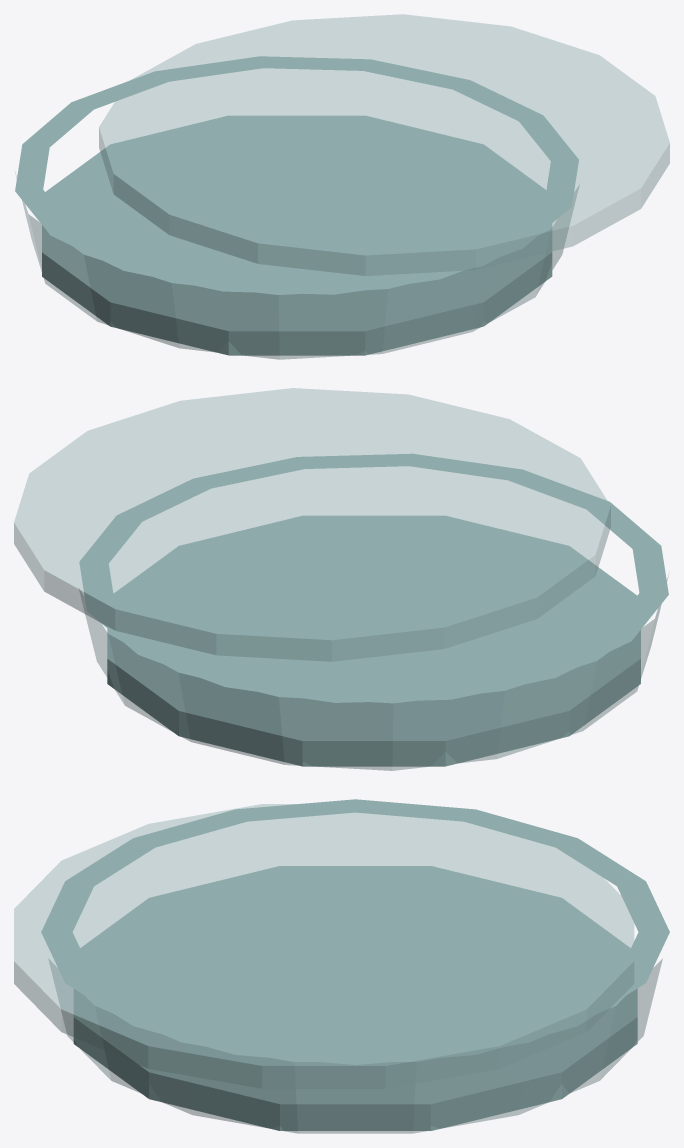
File: petri_dish.glb
3 views of the same model, one above another, from view 1: azimuth 30°, elevation 25°; view 2: azimuth 150°, elevation 25°; view 3: azimuth 270°, elevation 25° (orthographic). The views are drawn at different scales.
Parts seen in each view (by area): view 1: block_separate lid, block_glass base, block_glass side, block_glass rim 5, block_glass rim 4, block_glass rim 6, block_glass rim 13, block_glass rim 12, block_glass rim 7, block_glass rim 14, block_glass rim 11, block_glass rim 8 (+7 smaller); view 2: block_separate lid, block_glass base, block_glass side, block_glass rim 11, block_glass rim 10, block_glass rim 2, block_glass rim 9, block_glass rim 12, block_glass rim 3, block_glass rim 1, block_glass rim 8, block_glass rim 6 (+7 smaller); view 3: block_separate lid, block_glass base, block_glass side, block_glass rim 7, block_glass rim 0, block_glass rim 15, block_glass rim 8, block_glass rim 9, block_glass rim 6, block_glass rim 14, block_glass rim 1, block_glass rim 10 (+7 smaller).
Part boxes in pixels (bbox=[...]): block_separate lid: bbox=[99, 14, 669, 275]; block_glass base: bbox=[42, 115, 552, 355]; block_glass side: bbox=[15, 172, 579, 359]; block_glass rim 5: bbox=[223, 280, 333, 294]; block_glass rim 4: bbox=[330, 269, 438, 294]; block_glass rim 6: bbox=[124, 261, 230, 291]; block_glass rim 13: bbox=[260, 56, 370, 70]; block_glass rim 12: bbox=[155, 56, 263, 81]; block_glass rim 7: bbox=[51, 229, 140, 270]; block_glass rim 14: bbox=[363, 59, 469, 89]; block_glass rim 11: bbox=[72, 71, 168, 109]; block_glass rim 8: bbox=[15, 189, 74, 235]; block_separate lid: bbox=[14, 388, 610, 661]; block_glass base: bbox=[107, 515, 640, 766]; block_glass side: bbox=[79, 574, 668, 770]; block_glass rim 11: bbox=[225, 676, 338, 702]; block_glass rim 10: bbox=[335, 687, 450, 702]; block_glass rim 2: bbox=[297, 453, 412, 468]; block_glass rim 9: bbox=[444, 668, 554, 699]; block_glass rim 12: bbox=[138, 647, 239, 686]; block_glass rim 3: bbox=[409, 454, 522, 480]; block_glass rim 1: bbox=[193, 457, 304, 488]; block_glass rim 8: bbox=[537, 635, 631, 677]; block_glass rim 6: bbox=[632, 546, 668, 594]; block_separate lid: bbox=[14, 804, 634, 1088]; block_glass base: bbox=[73, 866, 637, 1130]; block_glass side: bbox=[49, 958, 662, 1133]; block_glass rim 7: bbox=[235, 799, 355, 821]; block_glass rim 0: bbox=[235, 1042, 355, 1064]; block_glass rim 15: bbox=[355, 1042, 475, 1064]; block_glass rim 8: bbox=[355, 799, 475, 821]; block_glass rim 9: bbox=[464, 809, 577, 847]; block_glass rim 6: bbox=[134, 809, 246, 847]; block_glass rim 14: bbox=[464, 1017, 576, 1054]; block_glass rim 1: bbox=[134, 1017, 246, 1054]; block_glass rim 10: bbox=[556, 838, 645, 886].
Bounding box in the file's own units: 0.096 × 0.0172 × 0.0877.
Materials: 2 (2 with a texture image).
